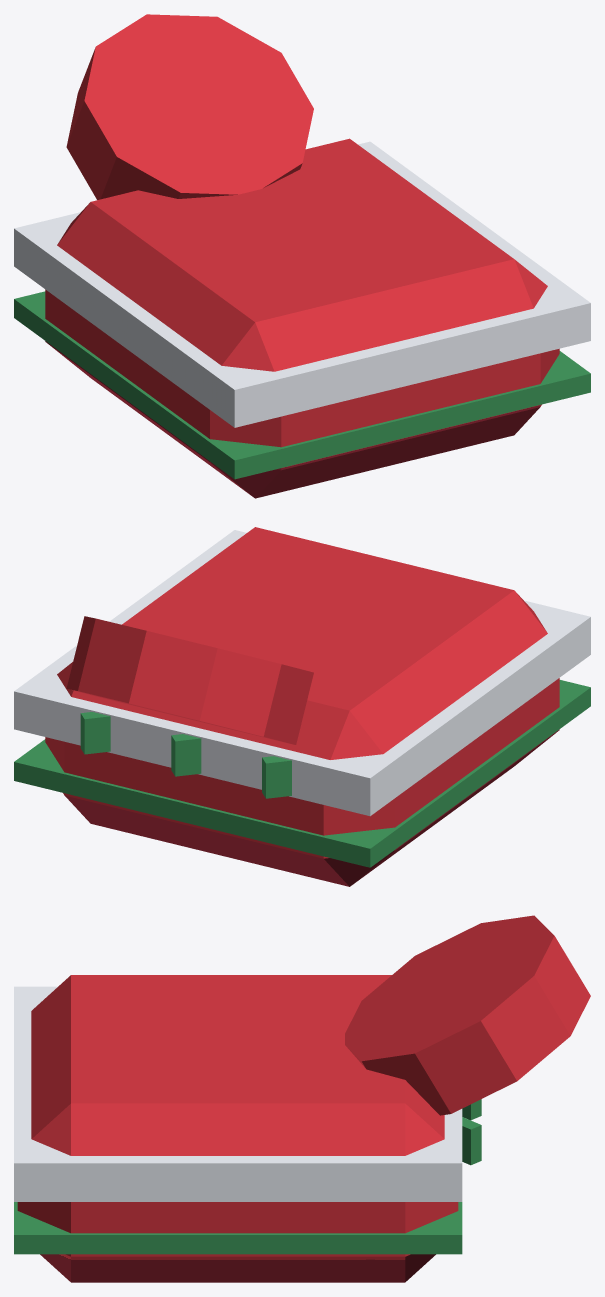
Rendered from outfit_sweater.glb.
The picture shows the model from 3 angles, top to bottom: view 1: azimuth 30°, elevation 25°; view 2: azimuth 150°, elevation 25°; view 3: azimuth 270°, elevation 25°; orthographic projection.
Parts seen in each view (by area): view 1: outfit_sweater; view 2: outfit_sweater; view 3: outfit_sweater.
Boxes of the visible parts, x1,y1,x2,y2 form: outfit_sweater: (14, 14, 590, 498); outfit_sweater: (14, 527, 590, 886); outfit_sweater: (14, 915, 590, 1282).
Bounding box in the file's own units: 0.55 × 0.4106 × 0.7594.
1 material, 1 textured.
